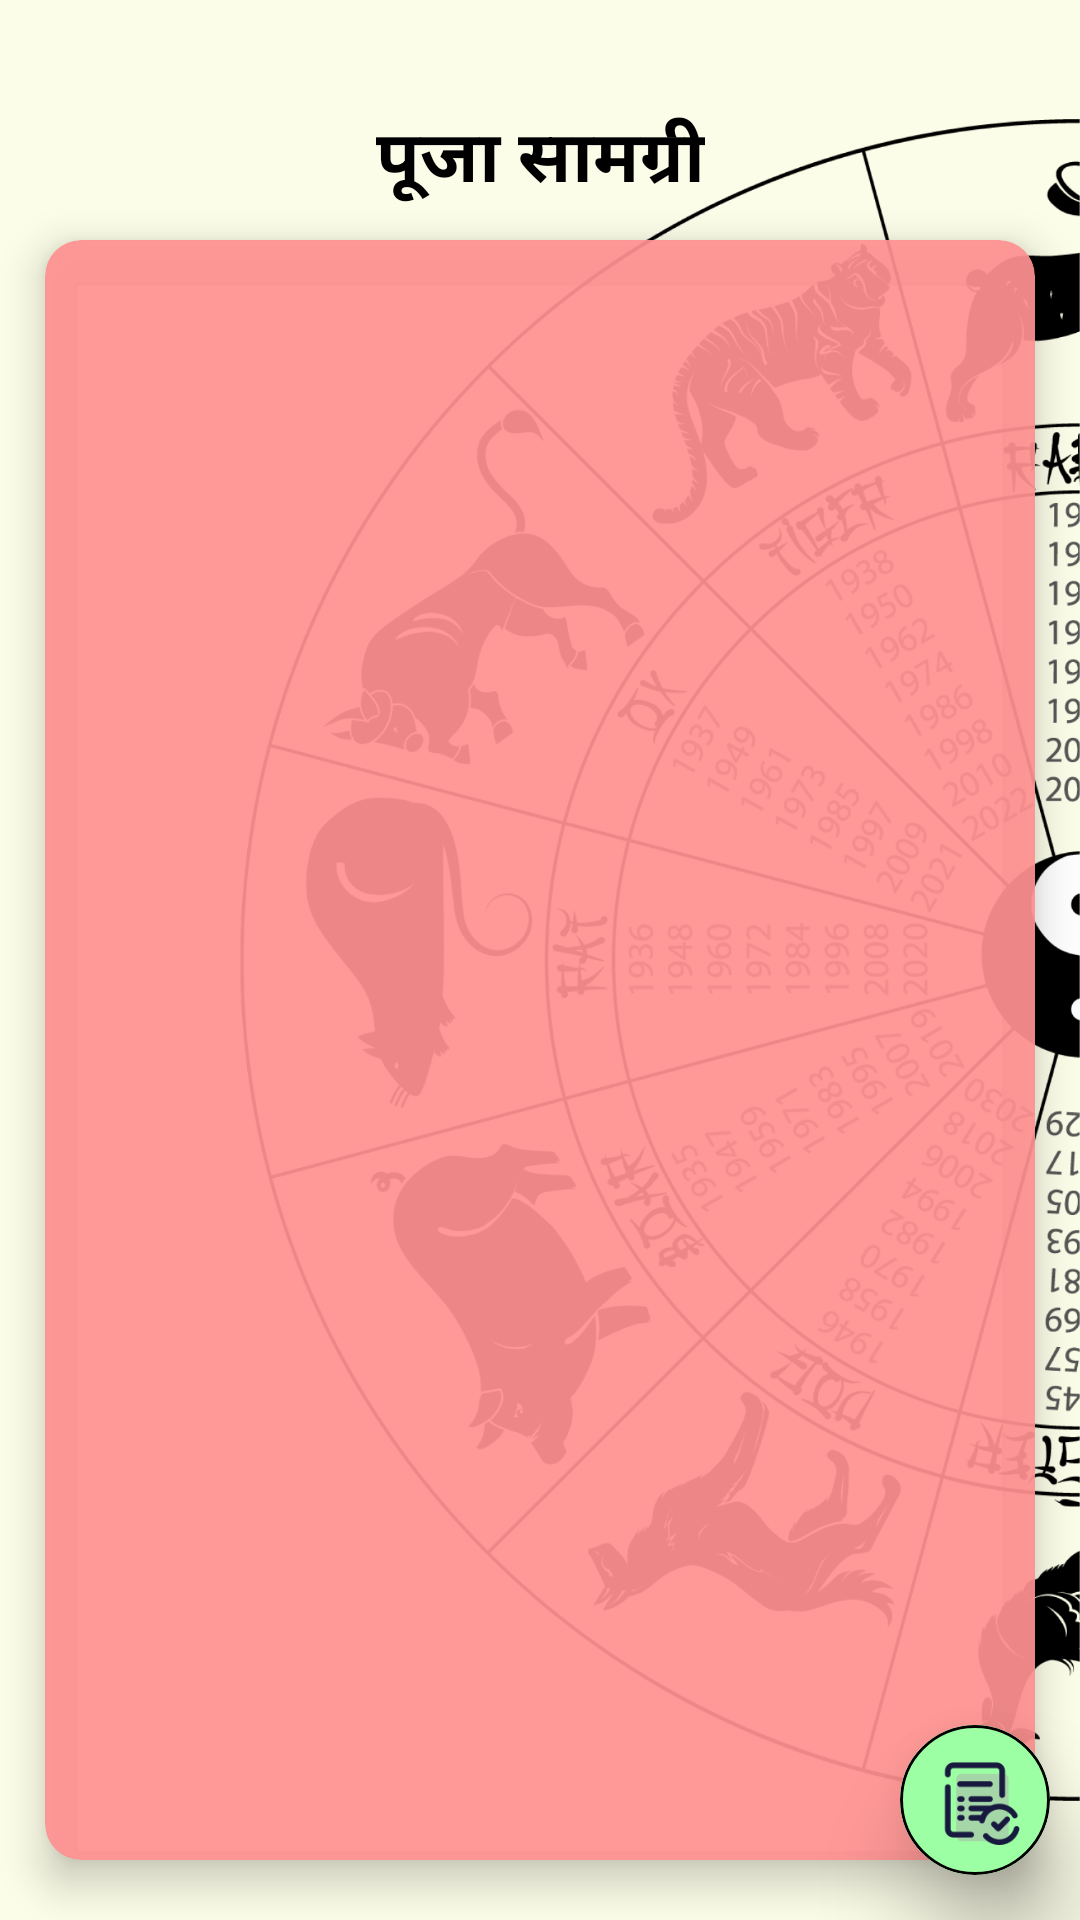

Icon click points for this 1080×1920 phone screenshot, format (x=x, y=y):
order: (x=982, y=1803)
